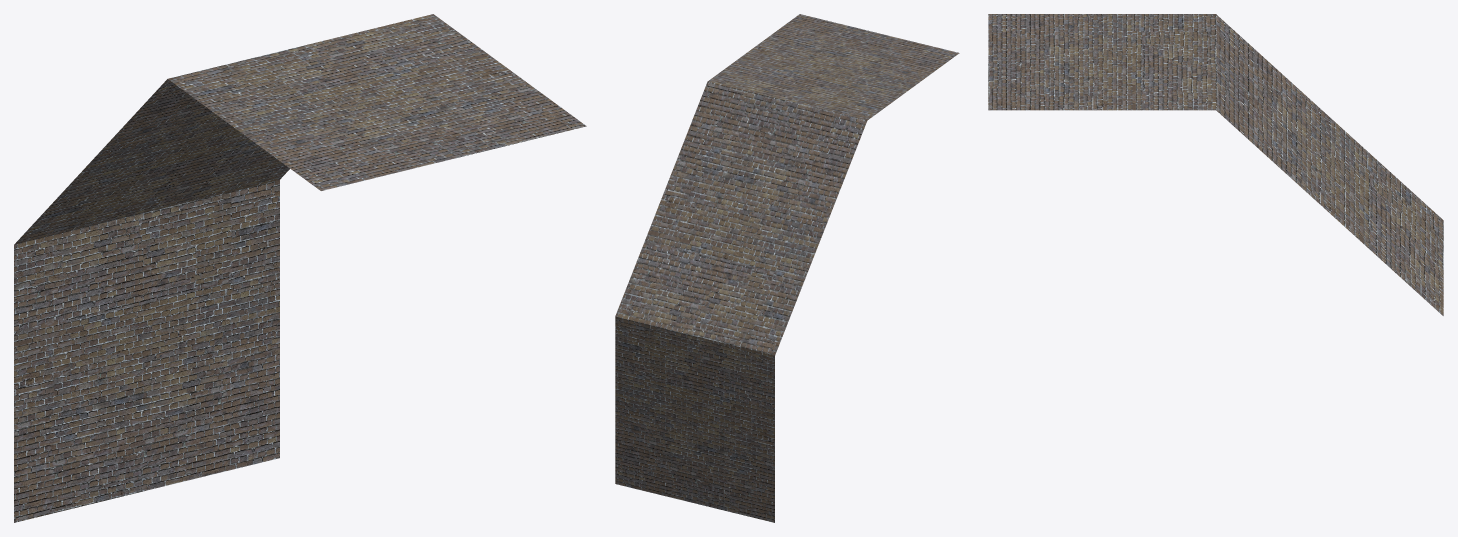
Rendered from Wall_InsetCeiling_Sloped_Wall.fbx.
The picture shows the model from 3 angles, left to right: view 1: azimuth 30°, elevation 25°; view 2: azimuth 150°, elevation 25°; view 3: azimuth 270°, elevation 25°; orthographic projection. The views are drawn at different scales.
Parts seen in each view (by area): view 1: Ceiling_Sloped_Wall; view 2: Ceiling_Sloped_Wall; view 3: Ceiling_Sloped_Wall.
Part boxes in pixels (left/top/right/bottom): Ceiling_Sloped_Wall: left=14, top=14, right=586, bottom=522; Ceiling_Sloped_Wall: left=615, top=14, right=959, bottom=522; Ceiling_Sloped_Wall: left=988, top=14, right=1443, bottom=315.
Bounding box in the file's own units: 500 × 1000 × 1000.
Materials: 1 (1 with a texture image).
